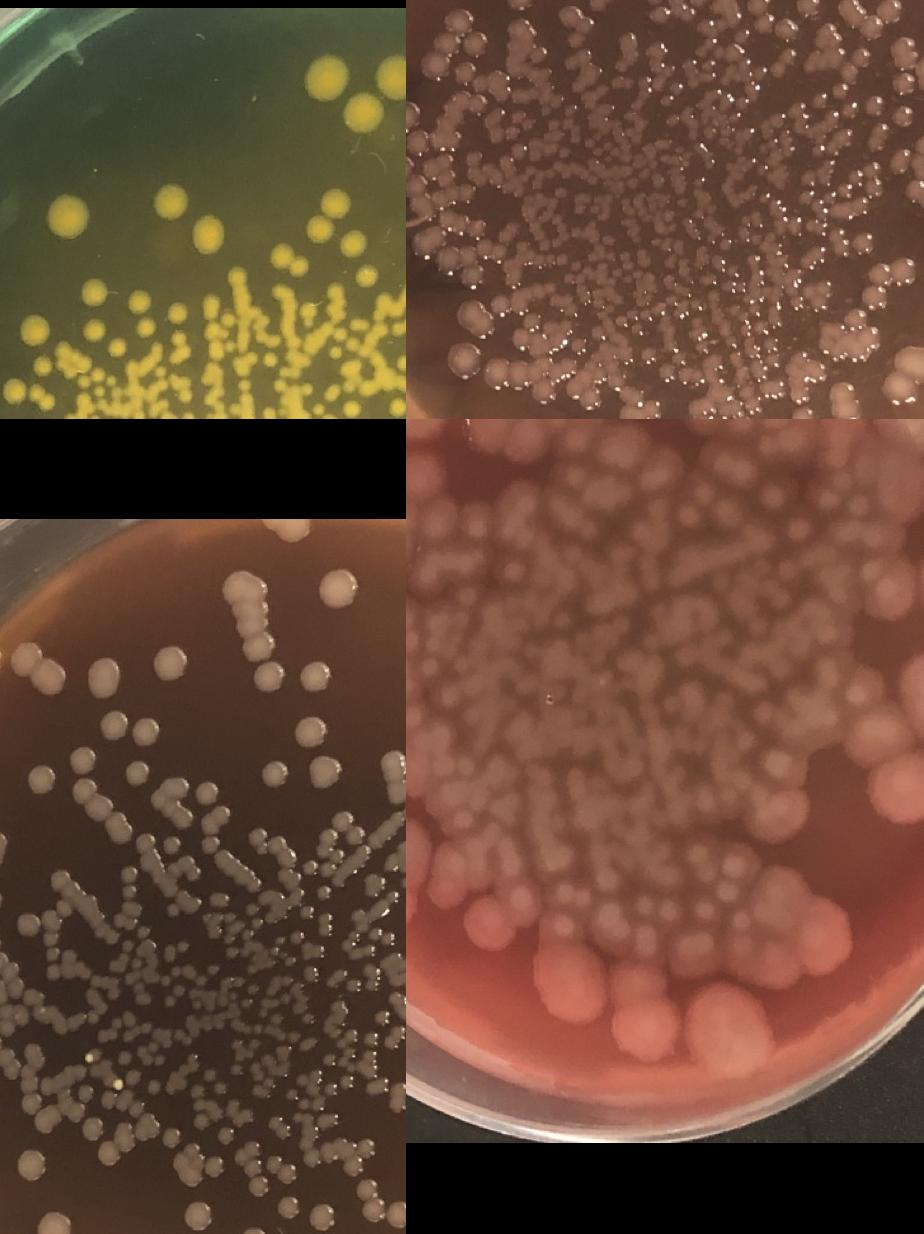assalmonicida: (220, 568, 287, 694), (275, 810, 365, 902), (66, 742, 134, 845), (99, 1108, 182, 1164), (200, 832, 264, 895), (233, 1139, 297, 1195), (10, 641, 65, 694), (188, 1064, 242, 1117), (97, 708, 164, 749), (306, 1048, 357, 1098), (172, 1140, 223, 1187), (318, 568, 360, 610), (150, 788, 194, 828), (0, 1033, 20, 1116), (84, 657, 124, 697), (0, 932, 24, 996), (118, 864, 144, 920), (339, 1138, 376, 1174), (179, 960, 223, 990), (259, 518, 313, 542), (152, 644, 186, 680), (296, 659, 331, 693), (14, 1148, 49, 1182), (293, 714, 326, 749), (308, 754, 340, 788), (115, 1046, 141, 1086), (258, 758, 290, 790), (122, 756, 154, 788), (34, 1210, 75, 1234), (26, 764, 58, 794), (16, 909, 44, 940), (242, 898, 266, 934), (44, 944, 66, 982), (266, 1111, 294, 1140), (307, 1202, 335, 1230), (274, 1192, 302, 1220), (192, 778, 220, 806), (183, 1202, 211, 1230), (378, 747, 405, 775), (382, 1023, 406, 1051), (385, 1202, 406, 1230), (386, 776, 406, 804), (0, 1003, 16, 1036), (389, 990, 406, 1020), (302, 962, 323, 982), (356, 1178, 376, 1198), (297, 902, 317, 922), (287, 927, 307, 947), (273, 1041, 293, 1061), (248, 825, 268, 845), (227, 1062, 247, 1082), (215, 1124, 235, 1144), (190, 1113, 210, 1133), (173, 934, 193, 954), (162, 901, 182, 921), (81, 1119, 101, 1139), (77, 1078, 97, 1098), (245, 978, 264, 998), (98, 1089, 117, 1109), (20, 1093, 39, 1113), (226, 1225, 268, 1234), (364, 1200, 382, 1220), (304, 1148, 322, 1168), (282, 1084, 300, 1104), (162, 835, 180, 855), (144, 1075, 162, 1095), (374, 1008, 392, 1026), (361, 1028, 379, 1046), (24, 1043, 42, 1061), (373, 1073, 390, 1091), (364, 960, 381, 978), (395, 838, 406, 856)
valgino: (845, 703, 924, 821), (752, 907, 854, 992), (691, 986, 770, 1066), (464, 878, 546, 950), (534, 944, 604, 1022), (862, 548, 924, 619), (614, 996, 678, 1060), (750, 866, 806, 920), (406, 441, 450, 505), (894, 650, 924, 714), (820, 474, 854, 510), (717, 880, 737, 902), (696, 480, 716, 502), (688, 842, 708, 864), (678, 504, 698, 526), (660, 900, 680, 922), (634, 893, 654, 915), (598, 868, 618, 890), (572, 889, 592, 911), (564, 466, 584, 488), (503, 560, 523, 582), (457, 584, 477, 606), (457, 752, 477, 774), (432, 752, 452, 774), (422, 656, 442, 677), (766, 485, 785, 507), (848, 494, 868, 514), (788, 518, 808, 538), (406, 703, 423, 725), (406, 630, 418, 652)
vharveyi: (300, 47, 406, 132), (407, 218, 495, 287), (43, 186, 97, 246), (862, 254, 918, 310), (302, 186, 352, 245), (825, 77, 890, 121), (436, 5, 488, 55), (556, 355, 600, 410), (884, 343, 924, 403), (184, 212, 234, 254), (0, 375, 57, 411), (845, 308, 883, 362), (122, 283, 158, 339), (889, 36, 924, 92), (857, 0, 902, 40), (558, 4, 598, 47), (617, 383, 664, 419), (147, 180, 189, 220), (72, 271, 112, 311), (267, 242, 311, 278), (452, 58, 492, 95), (14, 312, 54, 348), (76, 365, 118, 398), (406, 132, 427, 197), (451, 296, 487, 332), (446, 340, 482, 376), (406, 101, 430, 154), (510, 310, 542, 348), (829, 381, 858, 419), (167, 300, 190, 347), (336, 227, 368, 260), (80, 315, 108, 343), (752, 310, 784, 334), (750, 352, 781, 376), (848, 42, 876, 68), (482, 361, 510, 387), (224, 263, 251, 289), (531, 377, 557, 404), (890, 102, 916, 128), (888, 147, 914, 173), (852, 227, 878, 253), (804, 359, 830, 385), (106, 334, 130, 360), (659, 80, 683, 106), (356, 261, 378, 289), (774, 16, 798, 41), (830, 226, 850, 255), (892, 72, 916, 96), (646, 0, 670, 24), (31, 354, 54, 378), (835, 0, 862, 19), (438, 206, 460, 228), (386, 394, 406, 418), (903, 181, 924, 203), (656, 362, 677, 382), (618, 30, 639, 50), (503, 0, 548, 9), (342, 398, 362, 418), (325, 342, 345, 362), (298, 299, 318, 319), (688, 322, 708, 342), (640, 345, 660, 365), (913, 133, 924, 168), (680, 365, 699, 385), (570, 334, 589, 354), (528, 45, 548, 64), (492, 294, 511, 314), (463, 147, 482, 167), (236, 375, 255, 394), (261, 350, 281, 368), (795, 0, 819, 15), (791, 405, 815, 419), (746, 0, 770, 14), (218, 309, 236, 326), (259, 403, 277, 419), (808, 245, 826, 261), (802, 168, 818, 184), (802, 188, 819, 203), (790, 294, 805, 310), (789, 101, 804, 117), (563, 55, 578, 71), (312, 402, 328, 416), (770, 60, 784, 76), (770, 111, 784, 127), (734, 28, 748, 43), (395, 352, 406, 371), (669, 0, 684, 6)
